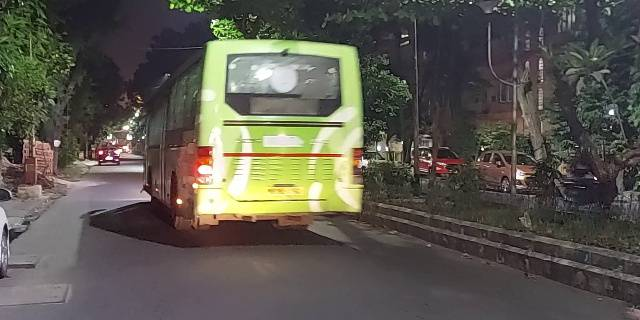Bus: (142, 41, 364, 232)
